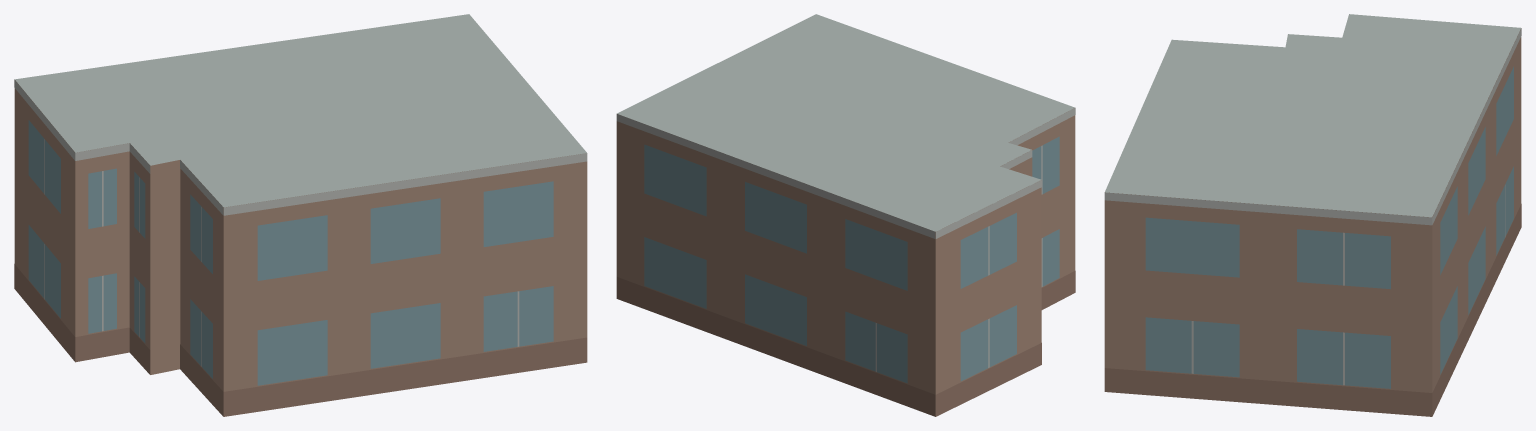
File: survey-upis-32711066.glb
3 renders of one model, left to right at view 1: azimuth 30°, elevation 25°; view 2: azimuth 150°, elevation 25°; view 3: azimuth 270°, elevation 25°, orthographic. The views are drawn at different scales.
Parts seen in each view (by area): view 1: survey-upis-32711066.tmp; view 2: survey-upis-32711066.tmp; view 3: survey-upis-32711066.tmp.
Part boxes in pixels (x1,y1,x2,y2): survey-upis-32711066.tmp: [14, 14, 587, 416]; survey-upis-32711066.tmp: [616, 14, 1075, 416]; survey-upis-32711066.tmp: [1104, 14, 1521, 416].
Bounding box in the file's own units: 13.35 × 6.1 × 11.56.
